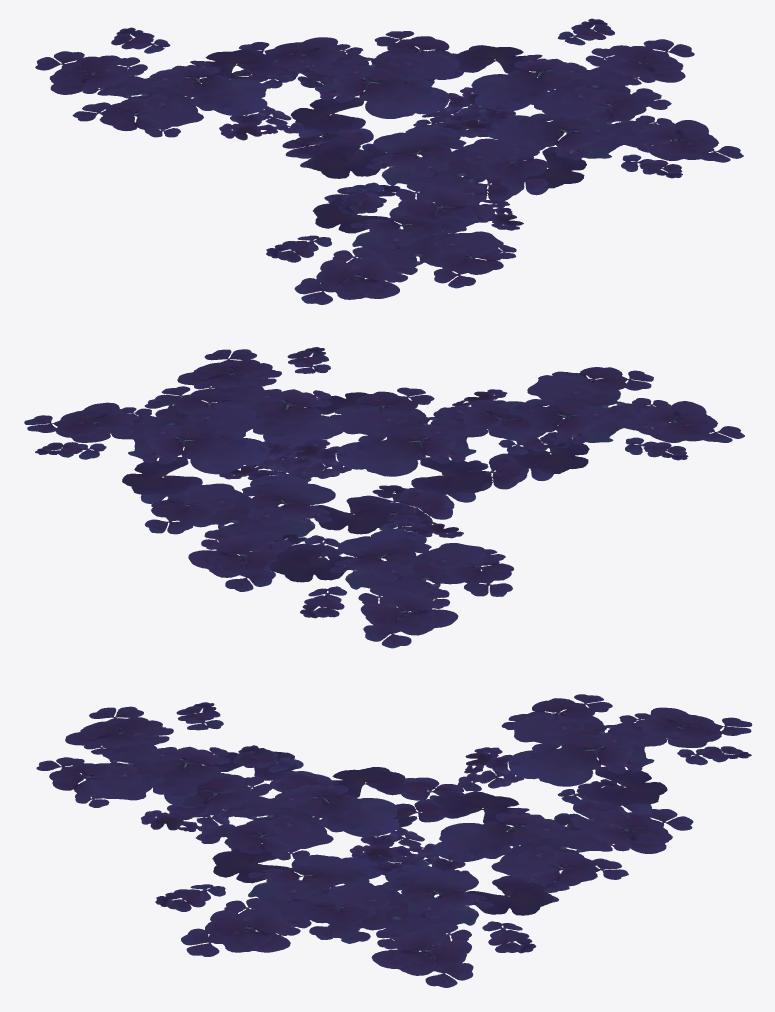
3 renders of one model, top to bottom at view 1: azimuth 30°, elevation 25°; view 2: azimuth 150°, elevation 25°; view 3: azimuth 270°, elevation 25°, orthographic. The views are drawn at different scales.
Parts seen in each view (by area): view 1: SM_FH_WoodSorrel_02_LOD0; view 2: SM_FH_WoodSorrel_02_LOD0; view 3: SM_FH_WoodSorrel_02_LOD0.
Boxes of the visible parts, box(x1,y1,x2,y2) form: SM_FH_WoodSorrel_02_LOD0: box(35, 18, 743, 304); SM_FH_WoodSorrel_02_LOD0: box(24, 347, 744, 648); SM_FH_WoodSorrel_02_LOD0: box(36, 694, 752, 987).
Bounding box in the file's own units: 0.7674 × 0.0438 × 0.8227.
Materials: 1 (1 with a texture image).
